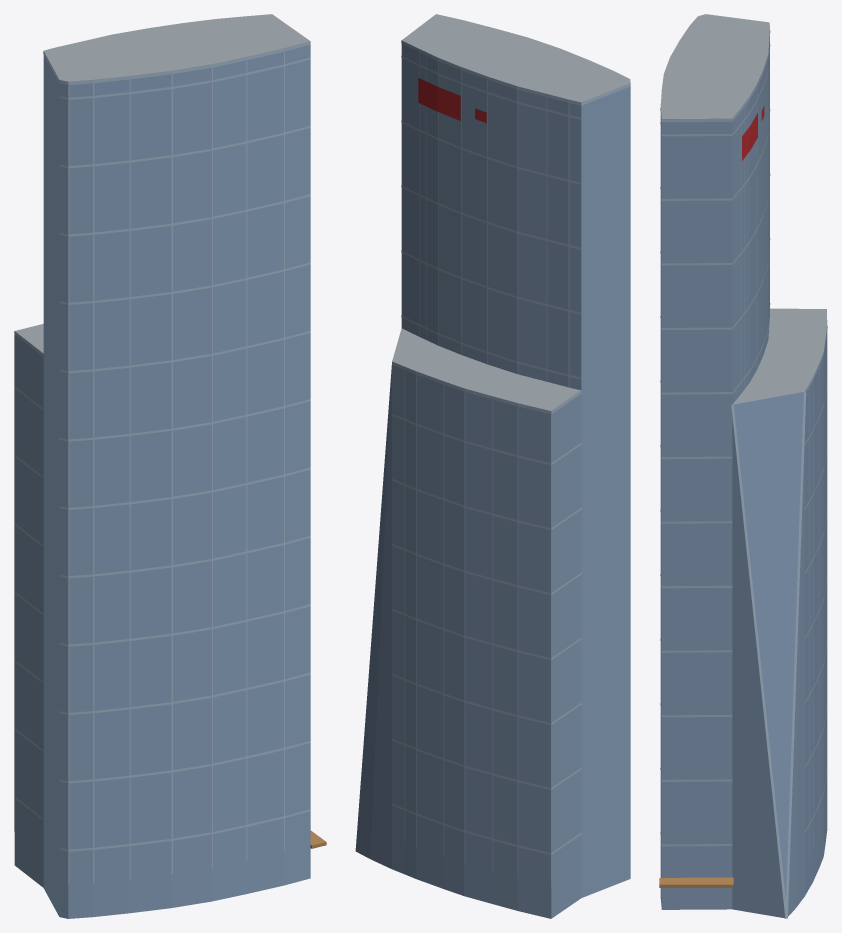
The model's file is phl-fmc-tower.glb.
3 views of the same model, side by side, from view 1: azimuth 30°, elevation 25°; view 2: azimuth 150°, elevation 25°; view 3: azimuth 270°, elevation 25° (orthographic). The views are drawn at different scales.
Visible parts, largest first — view 1: FMC Tower at Cira Centre South; view 2: FMC Tower at Cira Centre South; view 3: FMC Tower at Cira Centre South.
Boxes of the visible parts, <box> form: FMC Tower at Cira Centre South: <box>14,14,326,918</box>; FMC Tower at Cira Centre South: <box>355,14,630,918</box>; FMC Tower at Cira Centre South: <box>659,14,827,918</box>.
Bounding box in the file's own units: 68.87 × 223 × 42.86.
